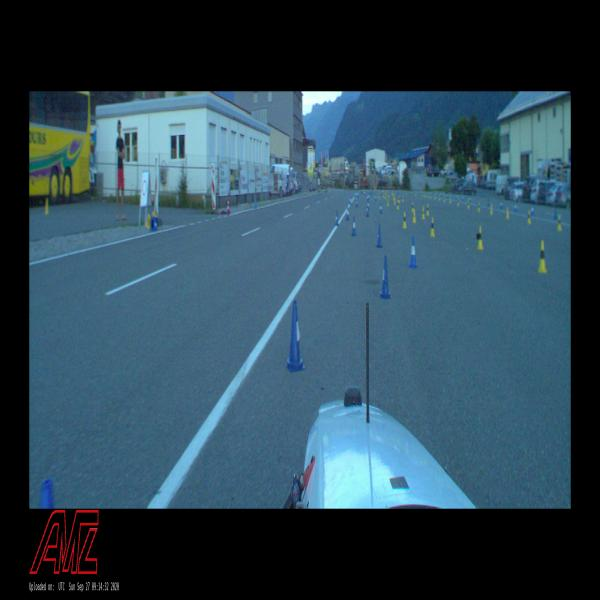blue_cone: (286, 300, 305, 372), (379, 256, 392, 298), (409, 236, 417, 268), (376, 224, 382, 248), (352, 217, 356, 236), (335, 211, 339, 225), (379, 203, 383, 214), (346, 208, 349, 221), (554, 209, 557, 220), (531, 205, 534, 216), (366, 202, 369, 211), (514, 203, 517, 212), (366, 208, 369, 216), (366, 196, 369, 203), (356, 200, 358, 208), (500, 201, 502, 209), (349, 198, 351, 205), (375, 194, 377, 201)
yellow_cone: (538, 241, 547, 273), (477, 225, 483, 250), (430, 219, 435, 236), (402, 211, 407, 228), (558, 216, 562, 231), (412, 209, 416, 222), (527, 210, 531, 223), (426, 204, 430, 215), (422, 208, 425, 219), (506, 208, 509, 218), (490, 205, 493, 214), (467, 199, 470, 208), (438, 194, 441, 201), (412, 202, 414, 211), (393, 198, 396, 204), (392, 194, 395, 200), (478, 203, 480, 211), (458, 198, 460, 206), (397, 201, 399, 209), (387, 199, 389, 206), (402, 195, 404, 202), (398, 196, 400, 203), (443, 195, 445, 202), (449, 197, 451, 203), (434, 194, 436, 200), (378, 193, 380, 198), (385, 193, 386, 199), (388, 192, 389, 197), (430, 193, 431, 198)
